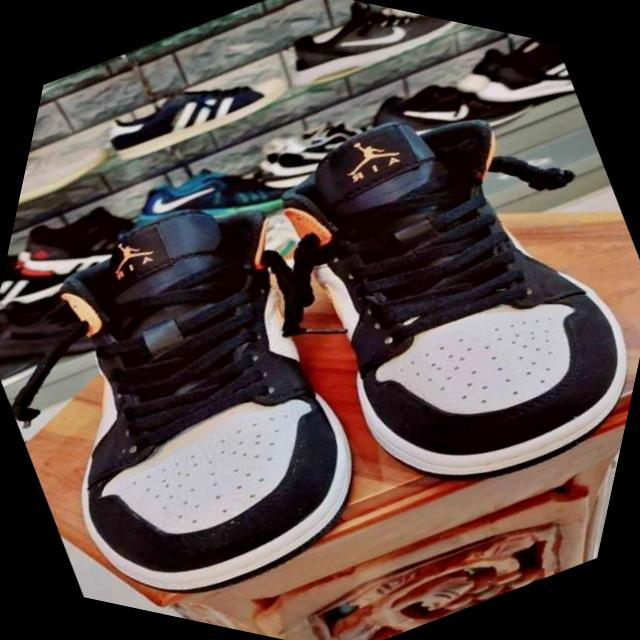nike_fake_jordan: (190, 20, 640, 563), (0, 121, 461, 640)
